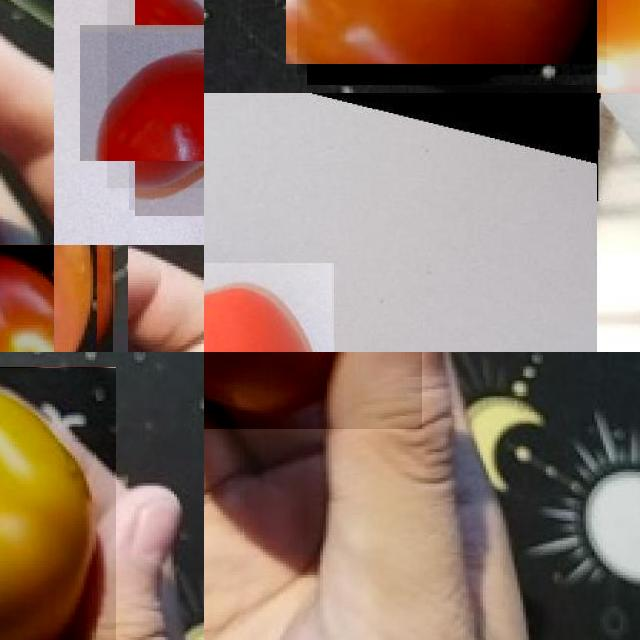0: (107, 0, 204, 188)
1: (0, 367, 116, 640)
Fresh Tomato: (296, 0, 607, 74), (204, 263, 334, 352)
